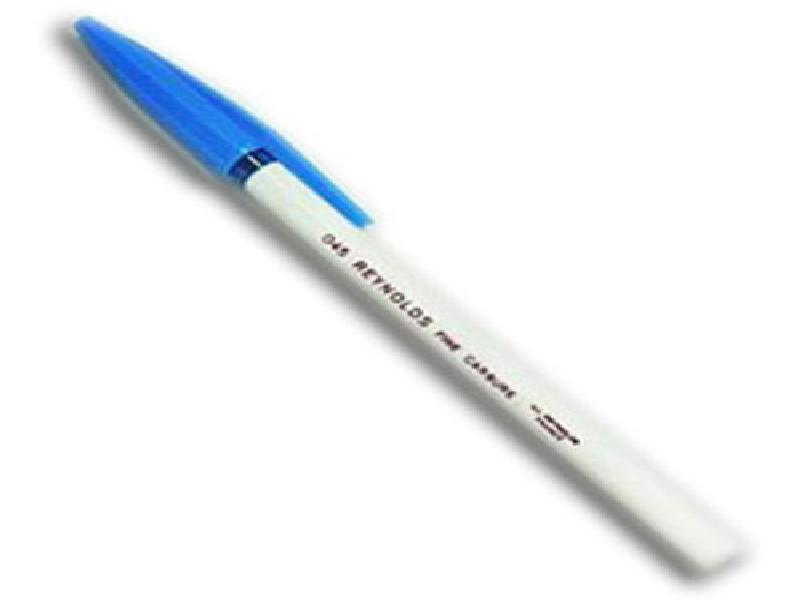pen: (68, 6, 746, 585)
